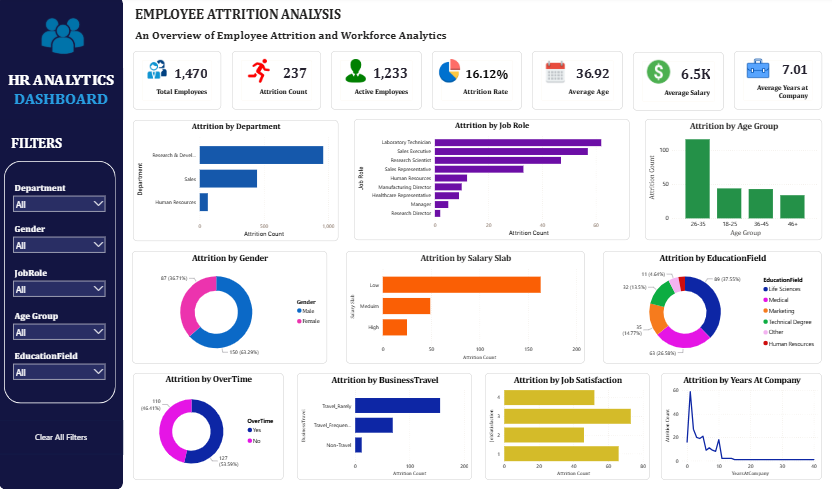

What the dashboard file says about the page in this screenshot:
{"tool":"powerbi","page":{"name":"Page 1","canvas":[1950,1150],"ordinal":0},"visuals":[{"type":"clusteredBarChart","title":"Attrition by Department","fields":{"Category":["HR-Employee-Attrition.Department"],"Y":["CountNonNull(HR-Employee-Attrition.EmployeeNumber)"]},"box":[314.3,287.7,480.3,283.3],"z":0},{"type":"clusteredBarChart","title":"Attrition by Job Role","fields":{"Category":["HR-Employee-Attrition.JobRole"],"Y":["HR-Employee-Attrition.Attrition Count"]},"box":[830,285.5,644.1,283.3],"z":1000},{"type":"clusteredColumnChart","title":"Attrition by Age Group","fields":{"Category":["HR-Employee-Attrition.Age Group"],"Y":["HR-Employee-Attrition.Attrition Count"]},"box":[1509.5,285.5,413.9,283.3],"z":2000},{"type":"donutChart","title":"Attrition by Gender","fields":{"Category":["HR-Employee-Attrition.Gender"],"Y":["HR-Employee-Attrition.Attrition Count"]},"box":[309.9,593.2,456,263.4],"z":3000},{"type":"clusteredBarChart","title":"Attrition by Salary Slab","fields":{"Category":["HR-Employee-Attrition.Salary Slab"],"Y":["HR-Employee-Attrition.Attrition Count"]},"box":[810.1,593.2,557.8,263.4],"z":4000},{"type":"donutChart","title":"Attrition by EducationField","fields":{"Category":["HR-Employee-Attrition.EducationField"],"Y":["HR-Employee-Attrition.Attrition Count"]},"box":[1412.1,593.2,511.3,263.4],"z":5000},{"type":"donutChart","title":"Attrition by OverTime","fields":{"Category":["HR-Employee-Attrition.OverTime"],"Y":["HR-Employee-Attrition.Attrition Count"]},"box":[314.3,878.7,351.9,250.1],"z":6000},{"type":"clusteredBarChart","title":"Attrition by BusinessTravel","fields":{"Category":["HR-Employee-Attrition.BusinessTravel"],"Y":["HR-Employee-Attrition.Attrition Count"]},"box":[697.2,878.7,409.5,250.1],"z":7000},{"type":"lineChart","title":"Attrition by Years At Company","fields":{"Category":["HR-Employee-Attrition.YearsAtCompany"],"Y":["HR-Employee-Attrition.Attrition Count"]},"box":[1547.2,878.7,376.3,250.1],"z":8000},{"type":"shape","box":[0,0,290,1151],"z":9000},{"type":"textbox","box":[0,166,290,119.5],"z":10000},{"type":"image","box":[57.5,17.7,172.6,148.3],"z":11000},{"type":"shape","box":[11.1,382.9,261.2,566.6],"z":12000},{"type":"slicer","fields":{"Values":["HR-Employee-Attrition.Department"]},"box":[24.3,427.2,234.6,84.1],"z":13000},{"type":"slicer","fields":{"Values":["HR-Employee-Attrition.Gender"]},"box":[24.3,524.6,234.6,90.7],"z":14000},{"type":"slicer","fields":{"Values":["HR-Employee-Attrition.JobRole"]},"box":[24.3,626.4,234.6,86.3],"z":15000},{"type":"slicer","fields":{"Values":["HR-Employee-Attrition.Age Group"]},"box":[24.3,726,234.6,81.9],"z":16000},{"type":"slicer","fields":{"Values":["HR-Employee-Attrition.EducationField"]},"box":[24.3,821.2,234.6,81.9],"z":17000},{"type":"textbox","box":[24.3,318.7,157.2,48.7],"z":18000},{"type":"actionButton","box":[0,989.4,290,79.7],"z":19000},{"type":"clusteredBarChart","title":"Attrition by Job Satisfaction","fields":{"Category":["HR-Employee-Attrition.JobSatisfaction"],"Y":["HR-Employee-Attrition.Attrition Count"]},"box":[1135.5,878.7,385.1,250.1],"z":20000},{"type":"cardVisual","fields":{"Data":["HR-Employee-Attrition.Total Employees Display"]},"box":[314.3,126.2,205.8,137.2],"z":21000},{"type":"cardVisual","fields":{"Data":["HR-Employee-Attrition.Attrition Rate"]},"box":[1011.5,126.2,210.3,137.2],"z":22000},{"type":"cardVisual","fields":{"Data":["HR-Employee-Attrition.Average Age"]},"box":[1246.1,126.2,212.5,137.2],"z":23000},{"type":"cardVisual","fields":{"Data":["HR-Employee-Attrition.Average Salary Display"]},"box":[1483,128.4,212.5,137.2],"z":24000},{"type":"cardVisual","fields":{"Data":["HR-Employee-Attrition.Average Years at Company"]},"box":[1717.6,126.2,205.8,137.2],"z":25000},{"type":"cardVisual","fields":{"Data":["HR-Employee-Attrition.Active Employees Display"]},"box":[776.9,126.2,212.5,137.2],"z":26000},{"type":"cardVisual","fields":{"Data":["HR-Employee-Attrition.Attrition Count"]},"box":[544.5,126.2,208.1,137.2],"z":27000},{"type":"image","box":[329.8,124,79.7,90.7],"z":28000},{"type":"image","box":[579.9,141.7,55.3,59.8],"z":29000},{"type":"image","box":[805.7,143.9,55.3,55.3],"z":30000},{"type":"image","box":[1020.4,143.9,64.2,55.3],"z":31000},{"type":"image","box":[1270.5,141.7,57.5,64.2],"z":32000},{"type":"image","box":[1500.7,139.4,81.9,68.6],"z":33000},{"type":"image","box":[1737.5,139.4,75.3,53.1],"z":34000},{"type":"textbox","box":[314.3,15.5,495.8,53.1],"z":34001},{"type":"textbox","box":[314.3,68.6,770.3,55.3],"z":34002}]}

Visuals, with their boxes in screenshot pixels (x1, y1, x2, y2), scaled from the page's 1950x1150 canvas onto the 832x489 screenshot:
"Attrition by Department" clusteredBarChart: 134,122,339,243
"Attrition by Job Role" clusteredBarChart: 354,121,629,242
"Attrition by Age Group" clusteredColumnChart: 644,121,821,242
"Attrition by Gender" donutChart: 132,252,327,364
"Attrition by Salary Slab" clusteredBarChart: 346,252,584,364
"Attrition by EducationField" donutChart: 602,252,821,364
"Attrition by OverTime" donutChart: 134,374,284,480
"Attrition by BusinessTravel" clusteredBarChart: 297,374,472,480
"Attrition by Years At Company" lineChart: 660,374,821,480
shape: 0,0,124,488
textbox: 0,71,124,121
image: 25,8,98,71
shape: 5,163,116,404
slicer - HR-Employee-Attrition.Department: 10,182,110,217
slicer - HR-Employee-Attrition.Gender: 10,223,110,262
slicer - HR-Employee-Attrition.JobRole: 10,266,110,303
slicer - HR-Employee-Attrition.Age Group: 10,309,110,344
slicer - HR-Employee-Attrition.EducationField: 10,349,110,384
textbox: 10,136,77,156
actionButton: 0,421,124,455
"Attrition by Job Satisfaction" clusteredBarChart: 484,374,649,480
cardVisual - HR-Employee-Attrition.Total Employees Display: 134,54,222,112
cardVisual - HR-Employee-Attrition.Attrition Rate: 432,54,521,112
cardVisual - HR-Employee-Attrition.Average Age: 532,54,622,112
cardVisual - HR-Employee-Attrition.Average Salary Display: 633,55,723,113
cardVisual - HR-Employee-Attrition.Average Years at Company: 733,54,821,112
cardVisual - HR-Employee-Attrition.Active Employees Display: 331,54,422,112
cardVisual - HR-Employee-Attrition.Attrition Count: 232,54,321,112
image: 141,53,175,91
image: 247,60,271,86
image: 344,61,367,85
image: 435,61,463,85
image: 542,60,567,88
image: 640,59,675,88
image: 741,59,773,82
textbox: 134,7,346,29
textbox: 134,29,463,53
